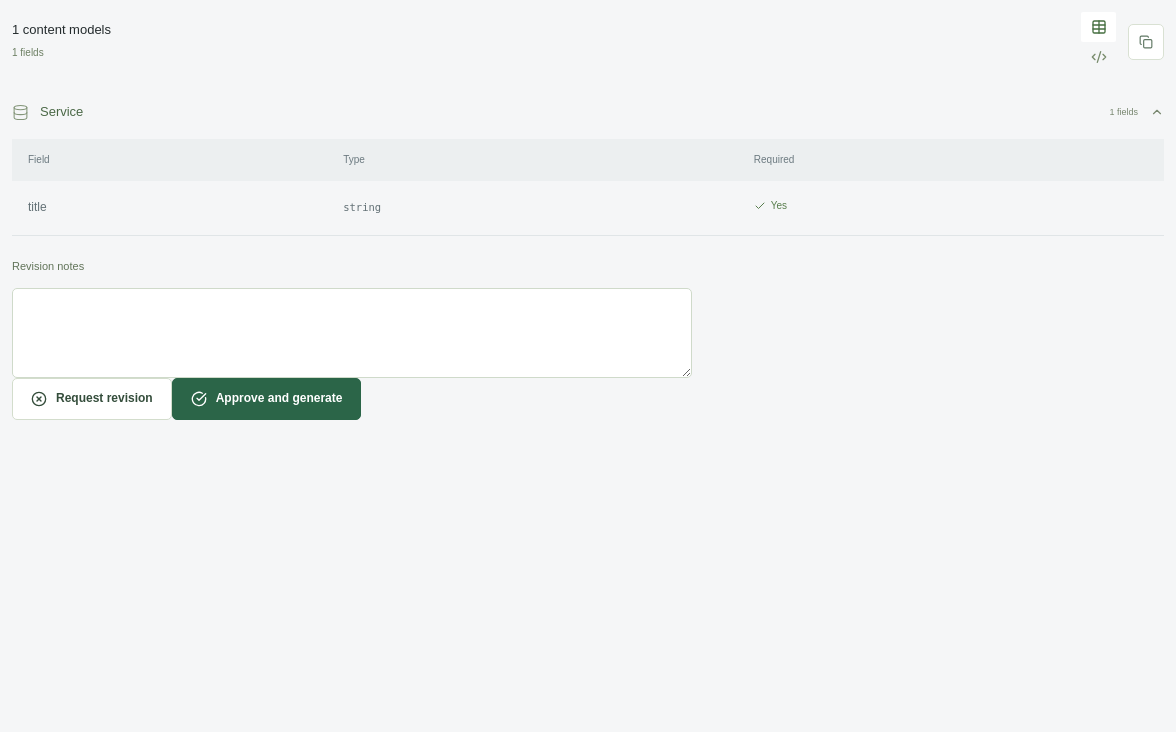
Schema approval › stays on review when the worker rejects the approval request
Expected: the text "Service" is shown, [12,102,83,123]
Click the button "Approve and generate" at point(267, 399), box [172,378,361,420]
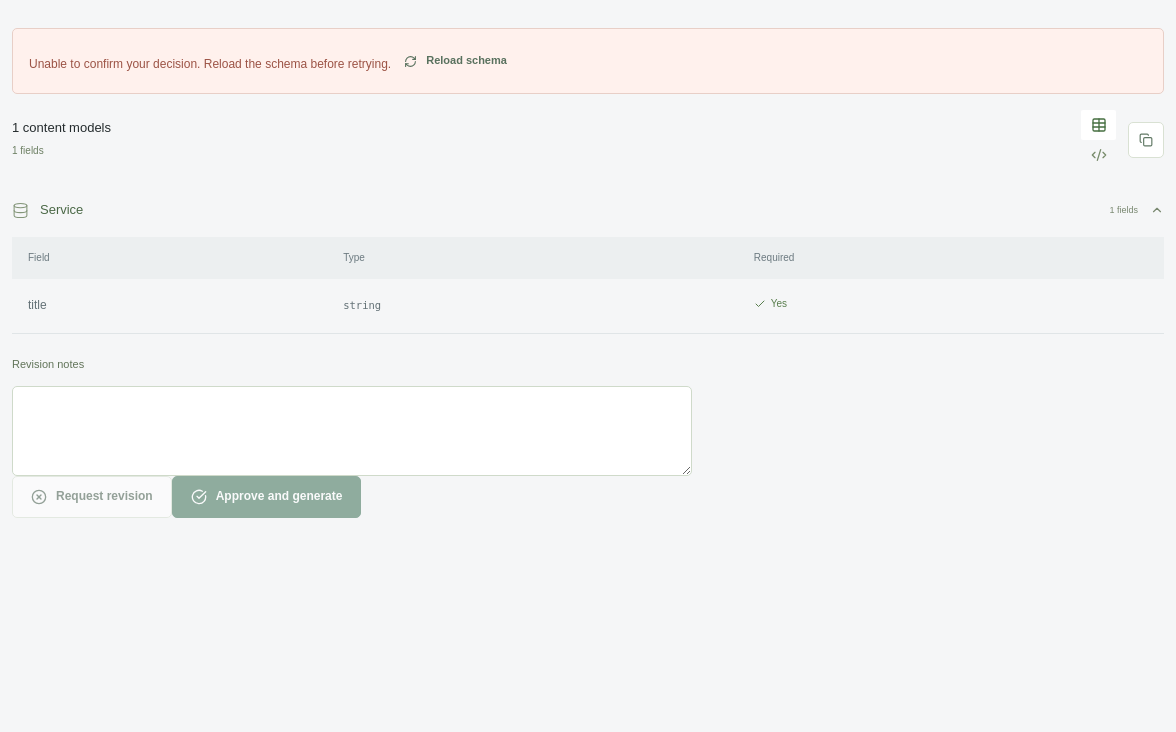
Expected: the message is shown, [12,28,1164,94]
Expected: the button "Approve and generate" is disabled, [172,476,361,518]
Click the button "Reload schema" at point(456, 61), box [391,43,520,79]
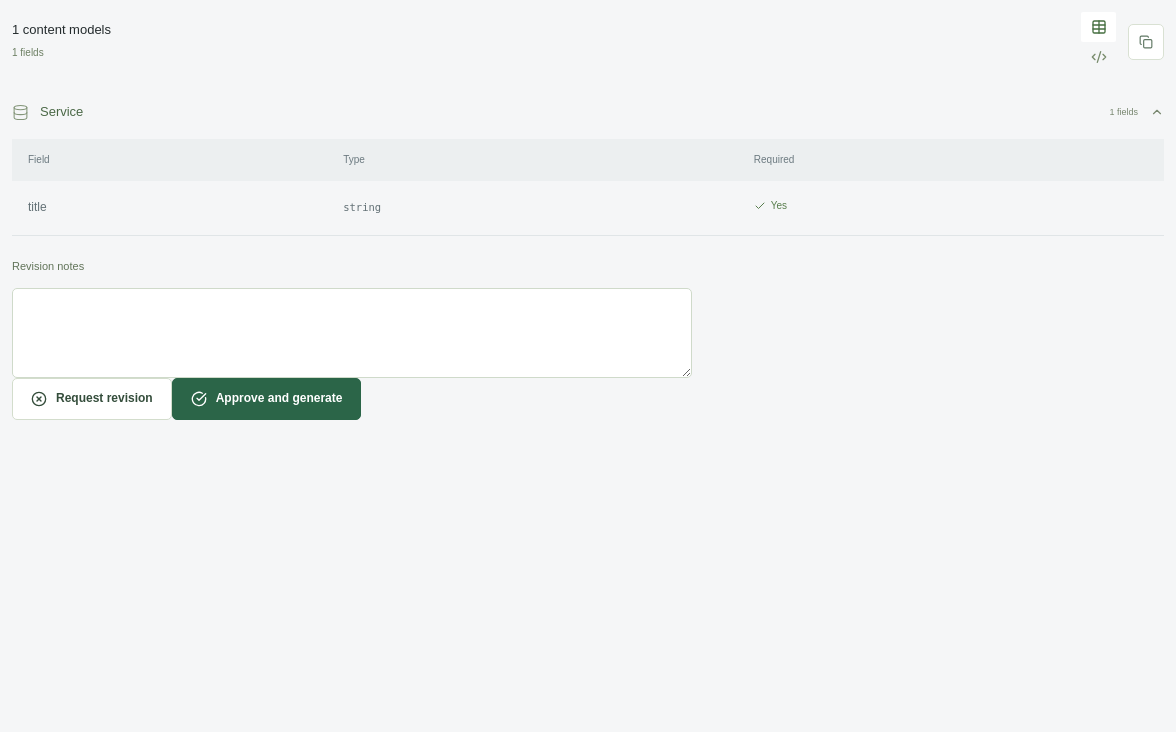
Expected: the button "Approve and generate" is enabled, [172,378,361,420]
